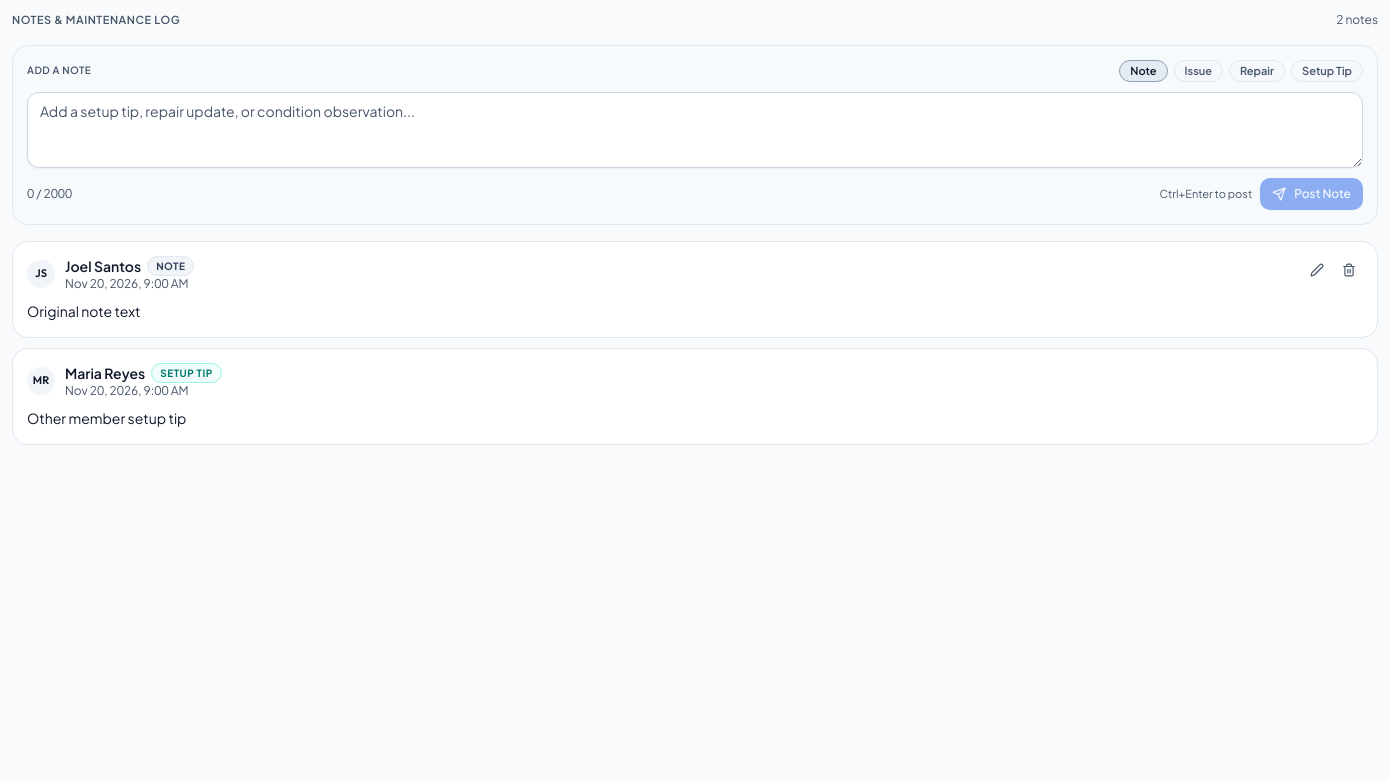
Test: ItemCommentsSection › allows author inline edit (save/cancel) and delete confirmation via AlertDialog, hiding actions for other members
Later steps or results of the test are not shown.
Click the button named "edit note": (1317, 270) [1303,256,1331,284]
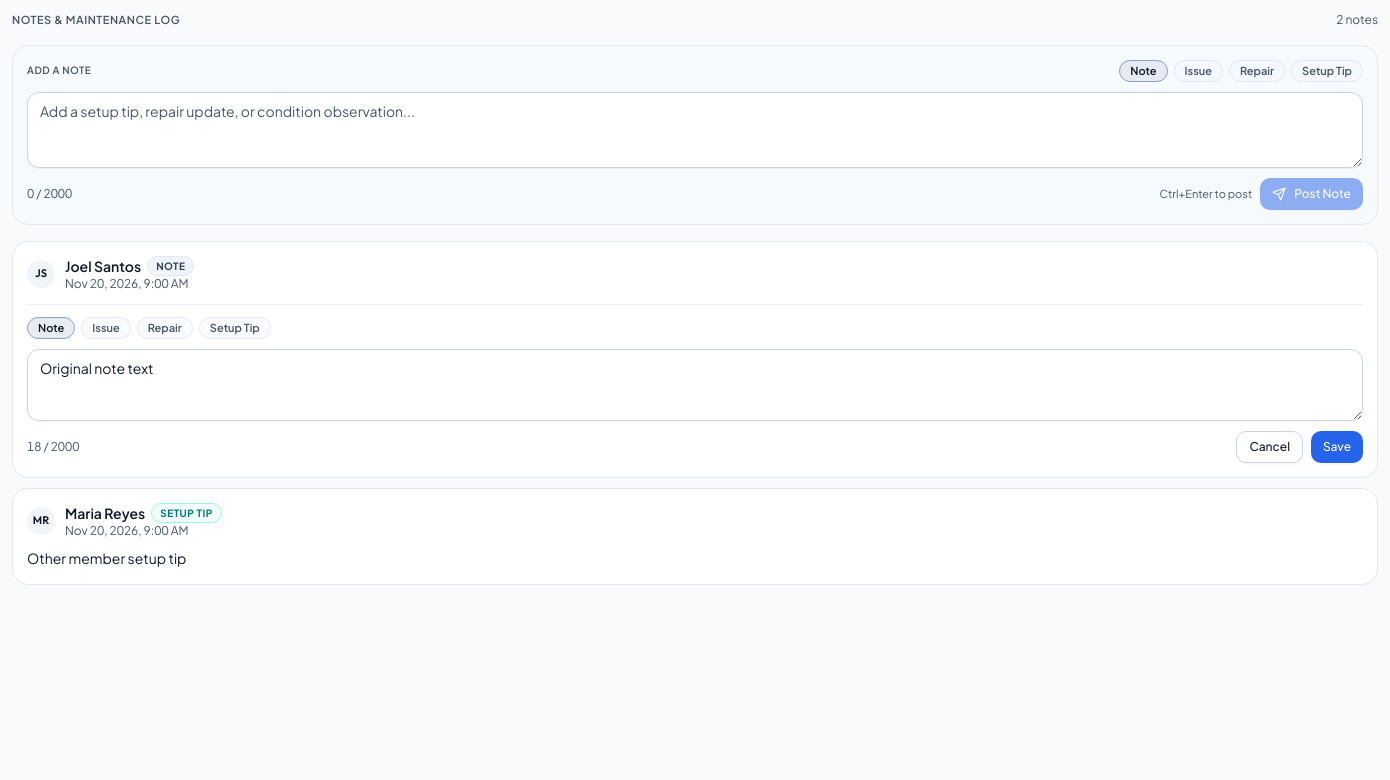
Replace the text in the text box named "edit note" with "Temporary change": (695, 385) [27,349,1363,421]
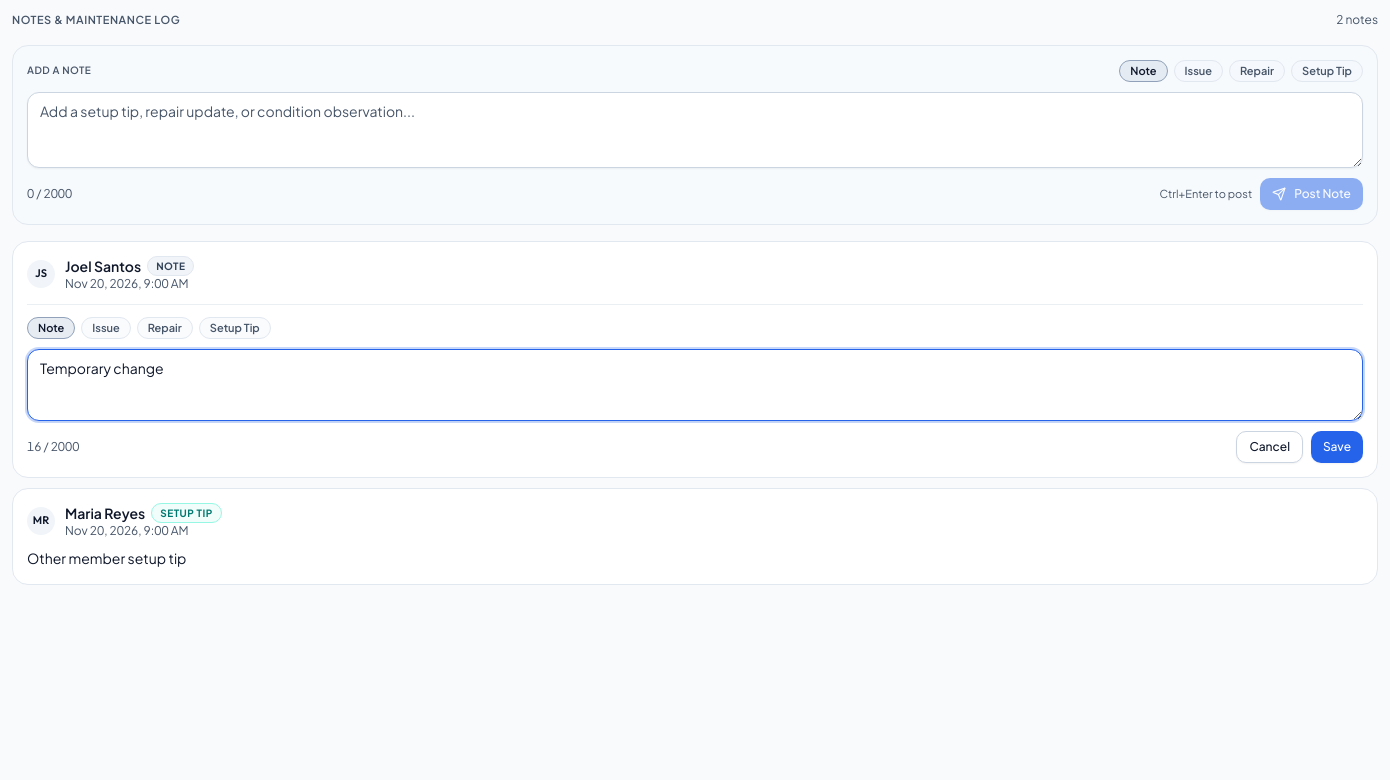
Click the button "Cancel": (1270, 447) [1236,431,1303,463]
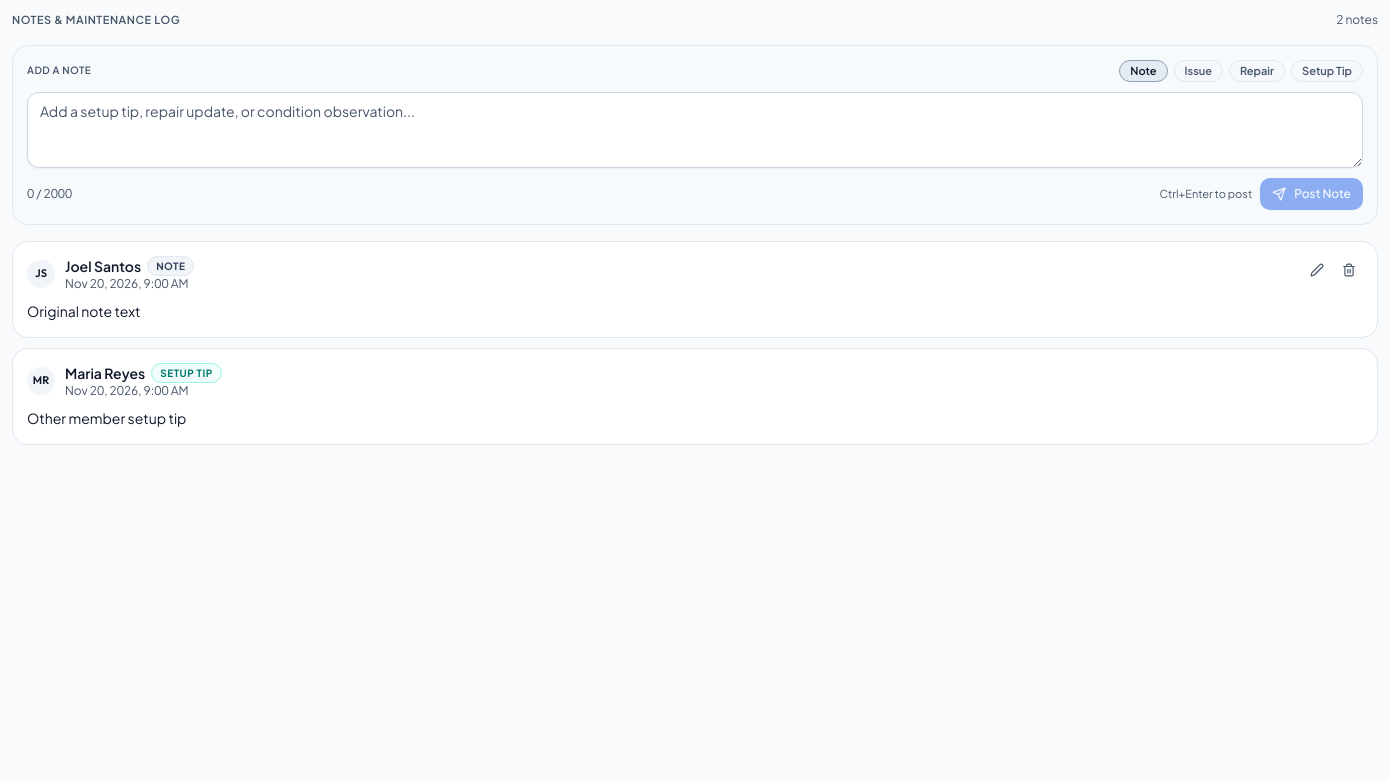
Check: the text "Original note text" is shown, box [27,302,140,320]
